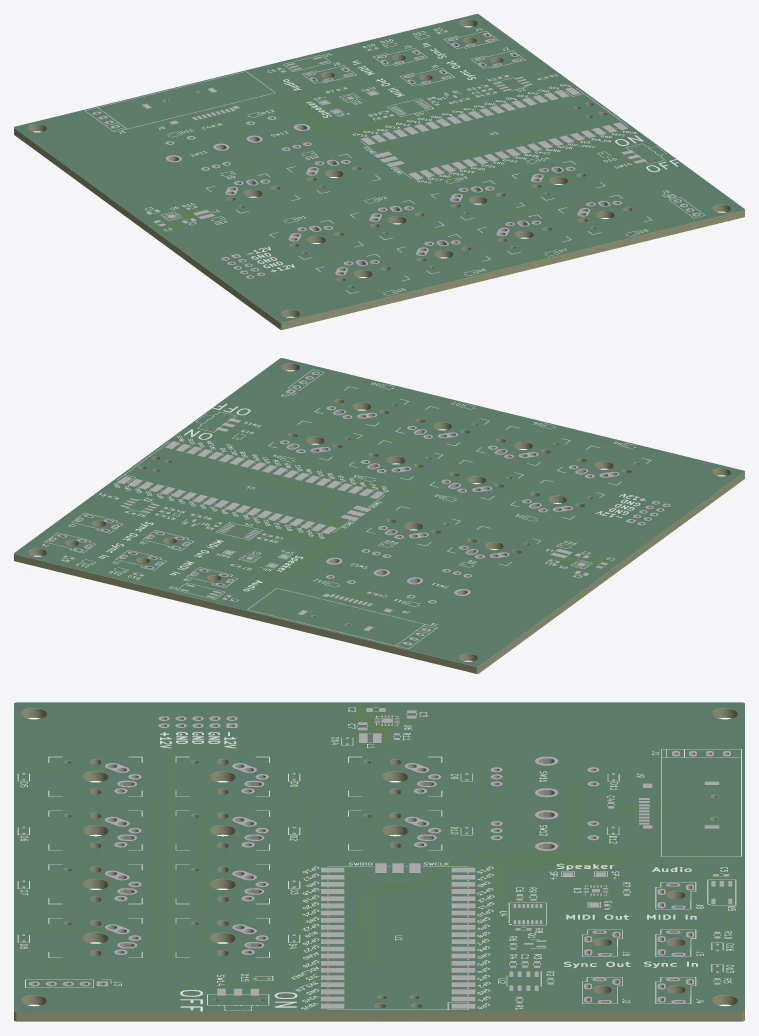
Rendered from electric-sampler-badge.glb.
The picture shows the model from 3 angles, top to bottom: view 1: azimuth 30°, elevation 25°; view 2: azimuth 150°, elevation 25°; view 3: azimuth 270°, elevation 25°; orthographic projection. The views are drawn at different scales.
Parts seen in each view (by area): view 1: =>[0:1:1:7], =>[0:1:1:9], =>[0:1:1:2], =>[0:1:1:5]; view 2: =>[0:1:1:7], =>[0:1:1:9], =>[0:1:1:2], =>[0:1:1:5]; view 3: =>[0:1:1:7], =>[0:1:1:9], =>[0:1:1:2], =>[0:1:1:5].
Part boxes in pixels (left/top/right/bottom): =>[0:1:1:7]: left=14, top=14, right=744, bottom=322; =>[0:1:1:9]: left=14, top=15, right=744, bottom=329; =>[0:1:1:2]: left=16, top=26, right=734, bottom=329; =>[0:1:1:5]: left=85, top=27, right=705, bottom=295; =>[0:1:1:7]: left=14, top=358, right=744, bottom=666; =>[0:1:1:9]: left=14, top=359, right=744, bottom=673; =>[0:1:1:2]: left=24, top=370, right=742, bottom=673; =>[0:1:1:5]: left=42, top=369, right=650, bottom=648; =>[0:1:1:7]: left=14, top=702, right=744, bottom=1021; =>[0:1:1:9]: left=14, top=703, right=744, bottom=1021; =>[0:1:1:2]: left=15, top=705, right=744, bottom=1021; =>[0:1:1:5]: left=17, top=707, right=741, bottom=1011.
Bounding box in the file's own units: 0.1097 × 0.00166 × 0.1095.
Materials: 4 (4 with a texture image).
